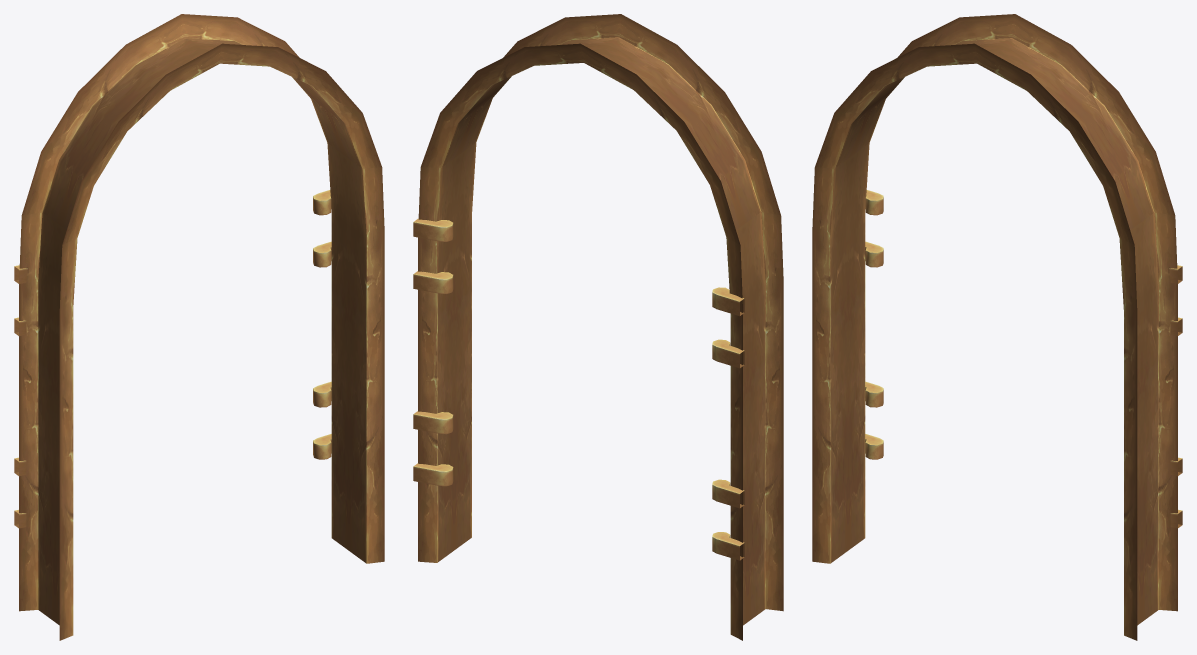
File: FP_Door_Bronze_01.FBX
3 views of the same model, side by side, from view 1: azimuth 30°, elevation 25°; view 2: azimuth 150°, elevation 25°; view 3: azimuth 330°, elevation 25° (orthographic).
Parts seen in each view (by area): view 1: FP_Door_Bronze_01; view 2: FP_Door_Bronze_01; view 3: FP_Door_Bronze_01.
Part boxes in pixels (bbox=[...]): FP_Door_Bronze_01: bbox=[14, 14, 384, 640]; FP_Door_Bronze_01: bbox=[413, 14, 783, 640]; FP_Door_Bronze_01: bbox=[812, 14, 1182, 640].
Size of the model in its own units: 310 by 73.28 by 505.
